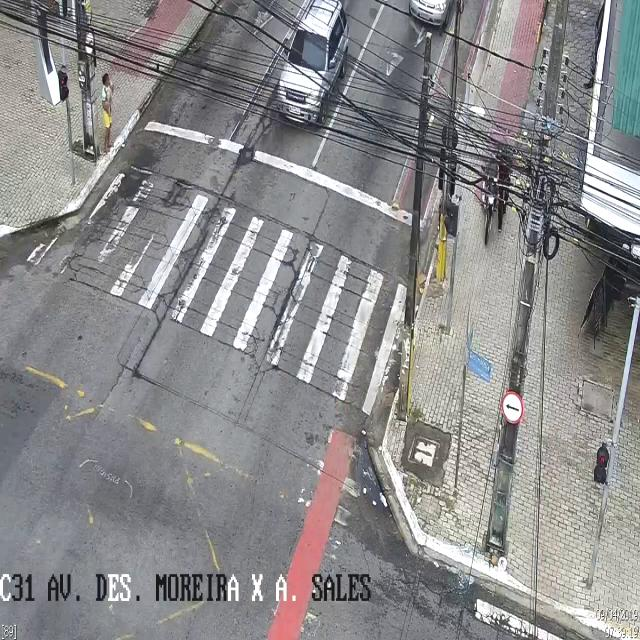Car: (274, 1, 346, 131), (402, 0, 470, 33)
